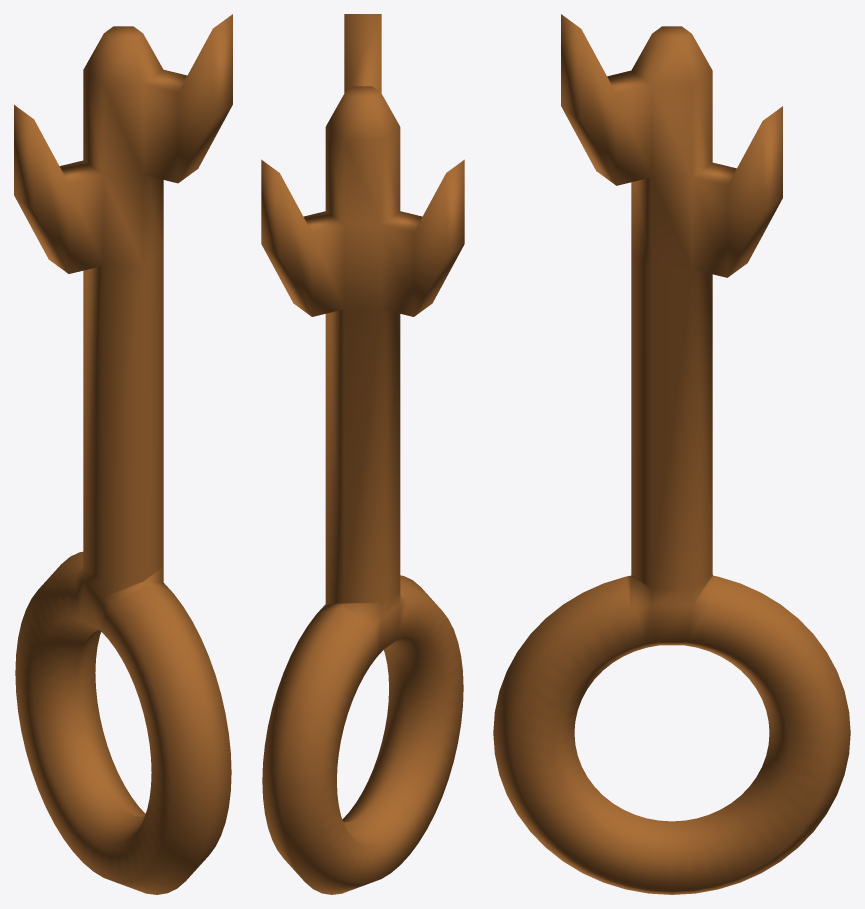
File: Key.fbx
3 renders of one model, left to right at view 1: azimuth 30°, elevation 25°; view 2: azimuth 150°, elevation 25°; view 3: azimuth 270°, elevation 25°, orthographic. The views are drawn at different scales.
Parts seen in each view (by area): view 1: Key; view 2: Key; view 3: Key.
Part boxes in pixels (bbox=[...]): Key: bbox=[14, 14, 232, 894]; Key: bbox=[261, 14, 464, 894]; Key: bbox=[493, 14, 850, 894].
Bounding box in the file's own units: 4.73 × 24.4 × 8.8.
